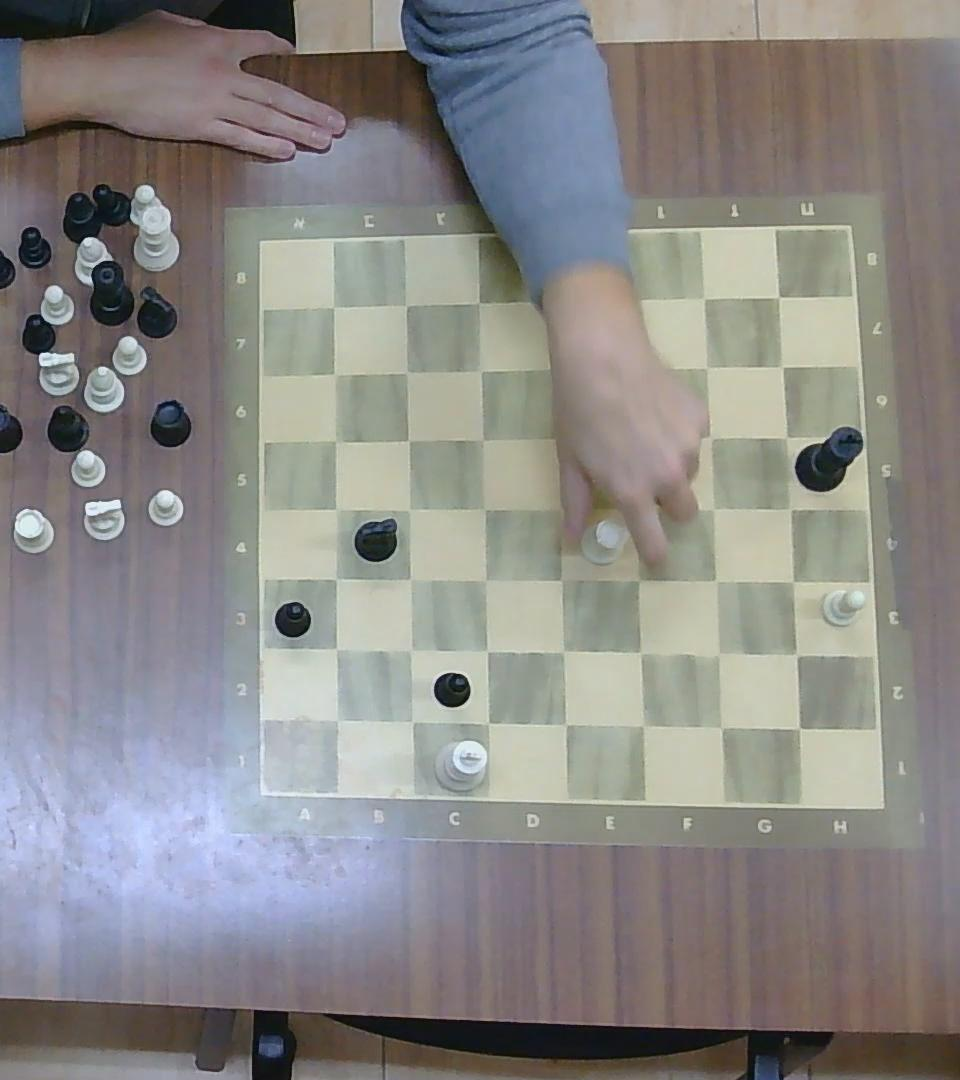xcorner: (781, 711, 815, 743), (702, 638, 734, 670), (705, 710, 736, 743), (625, 635, 656, 667), (548, 706, 579, 738), (626, 709, 657, 741), (471, 706, 502, 738), (622, 563, 652, 594), (396, 705, 427, 735), (321, 703, 351, 734), (781, 639, 812, 669), (548, 636, 578, 666), (471, 636, 501, 666), (320, 563, 350, 593), (465, 286, 494, 317), (548, 563, 577, 594), (531, 286, 560, 317), (470, 564, 500, 593), (623, 423, 652, 453), (470, 493, 499, 522), (395, 635, 424, 664), (392, 289, 421, 318), (699, 493, 728, 522), (621, 283, 649, 313), (777, 566, 806, 594), (701, 566, 730, 594), (776, 495, 805, 523), (395, 564, 423, 593), (321, 635, 350, 663), (320, 291, 349, 319), (467, 355, 495, 383), (323, 495, 351, 523), (393, 357, 421, 385), (543, 424, 571, 452), (626, 492, 654, 520), (468, 424, 495, 453), (321, 426, 350, 453), (767, 352, 796, 379), (321, 359, 350, 386), (395, 494, 423, 521), (394, 425, 422, 452), (692, 284, 719, 312), (693, 352, 721, 379), (547, 494, 575, 521), (766, 282, 792, 311), (538, 353, 564, 382), (621, 351, 647, 380), (772, 422, 800, 448), (697, 423, 723, 450)
